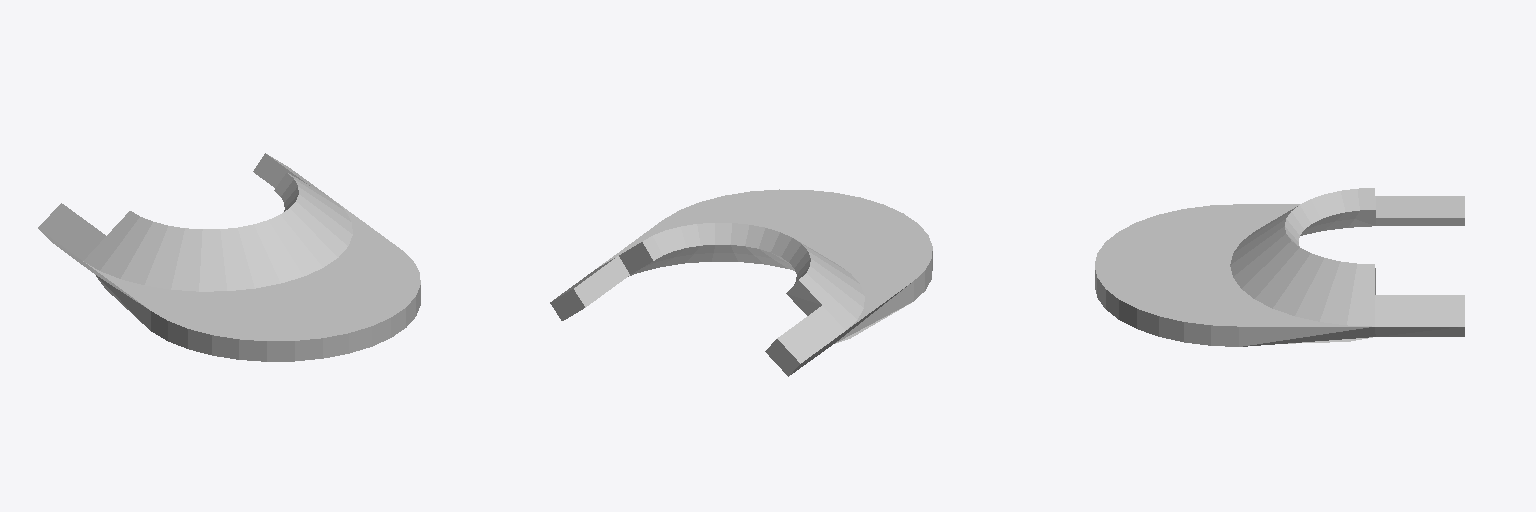
Rendered from Visor.obj.
3 renders of one model, left to right at view 1: azimuth 30°, elevation 25°; view 2: azimuth 150°, elevation 25°; view 3: azimuth 270°, elevation 25°, orthographic.
Visible parts, largest first — view 1: Circle; view 2: Circle; view 3: Circle.
Boxes of the visible parts, x1=… form: Circle: x1=38, y1=153, x2=420, y2=361; Circle: x1=550, y1=189, x2=932, y2=376; Circle: x1=1095, y1=188, x2=1464, y2=346.
Size of the model in its own units: 3.2 by 0.73 by 4.1.